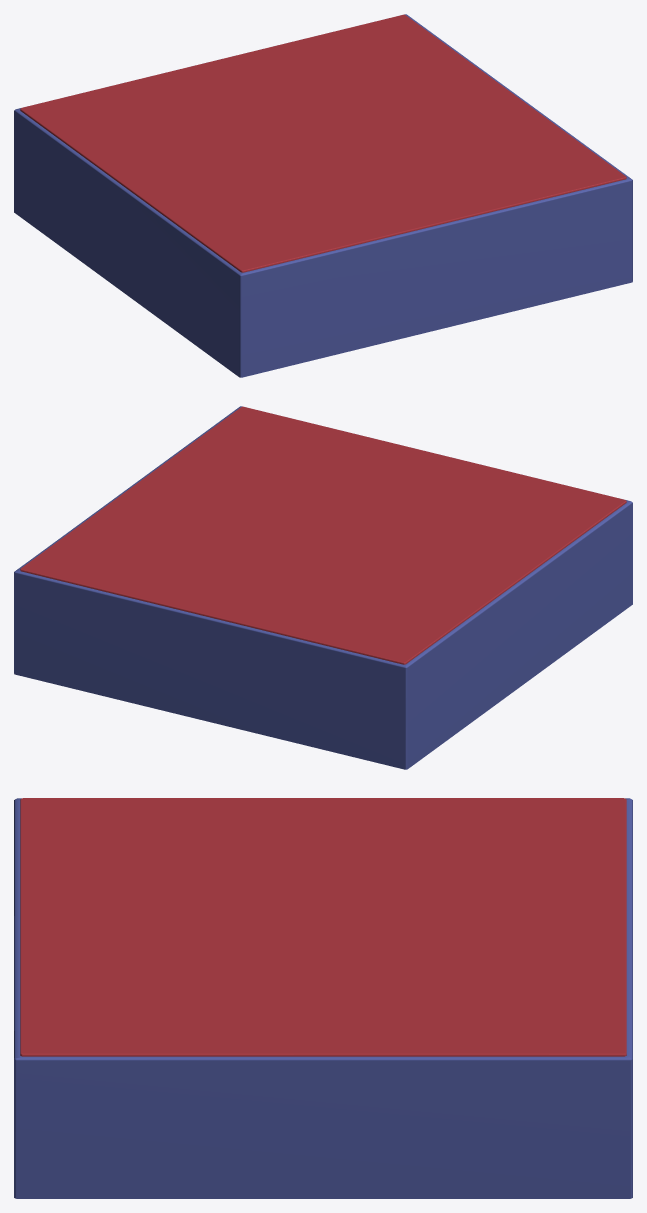
Rendered from SM_Platform_4x4_01.fbx.
3 views of the same model, one above another, from view 1: azimuth 30°, elevation 25°; view 2: azimuth 150°, elevation 25°; view 3: azimuth 270°, elevation 25° (orthographic). The views are drawn at different scales.
Parts seen in each view (by area): view 1: SM_Platform_4x4_01; view 2: SM_Platform_4x4_01; view 3: SM_Platform_4x4_01.
Boxes of the visible parts, bbox=[...] form: SM_Platform_4x4_01: bbox=[14, 14, 632, 377]; SM_Platform_4x4_01: bbox=[14, 406, 632, 769]; SM_Platform_4x4_01: bbox=[14, 798, 632, 1198].
Bounding box in the file's own units: 400 × 101 × 400.
